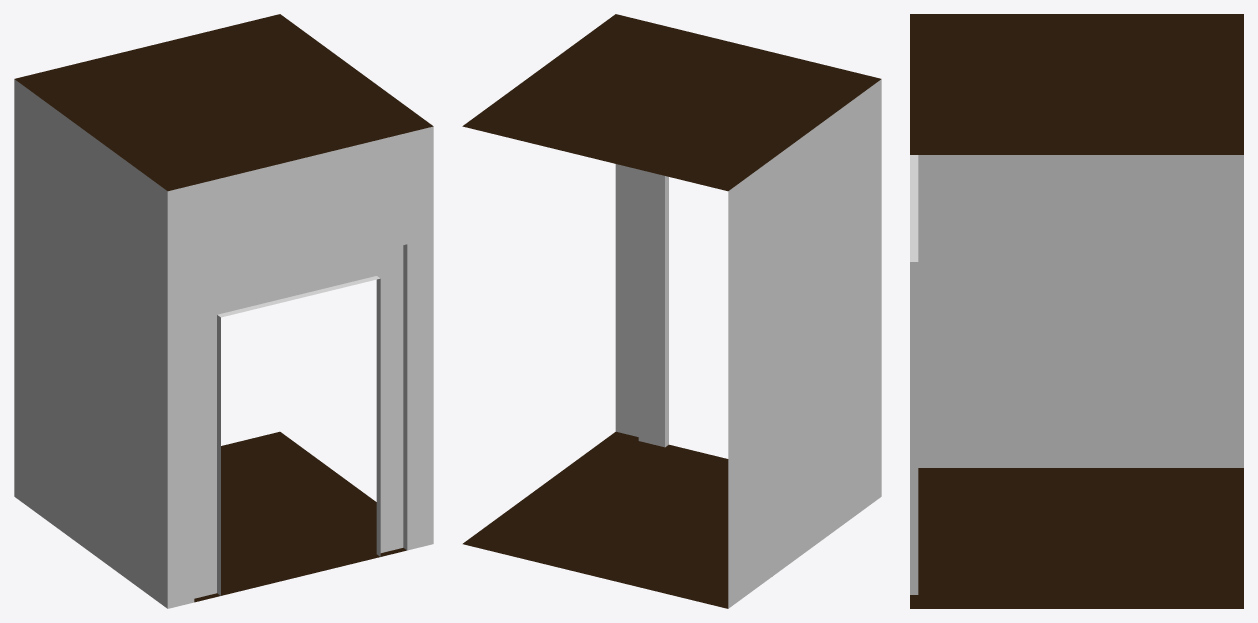
The model's file is SM_IntHouseRoomDoorCornR.fbx.
3 views of the same model, side by side, from view 1: azimuth 30°, elevation 25°; view 2: azimuth 150°, elevation 25°; view 3: azimuth 270°, elevation 25° (orthographic). The views are drawn at different scales.
Parts seen in each view (by area): view 1: Box101, Box094, Plane015; view 2: Plane015, Box094, Box101; view 3: Box094, Plane015, Box101.
Part boxes in pixels (box(x1,y1,x2,y2)): Box101: box(167, 126, 433, 608); Box094: box(14, 79, 167, 608); Plane015: box(15, 14, 433, 602); Plane015: box(462, 14, 880, 608); Box094: box(728, 79, 881, 608); Box101: box(615, 164, 668, 447); Box094: box(918, 155, 1243, 467); Plane015: box(910, 14, 1243, 608); Box101: box(910, 155, 918, 594).
Size of the model in its own units: 200 by 300 by 200.
